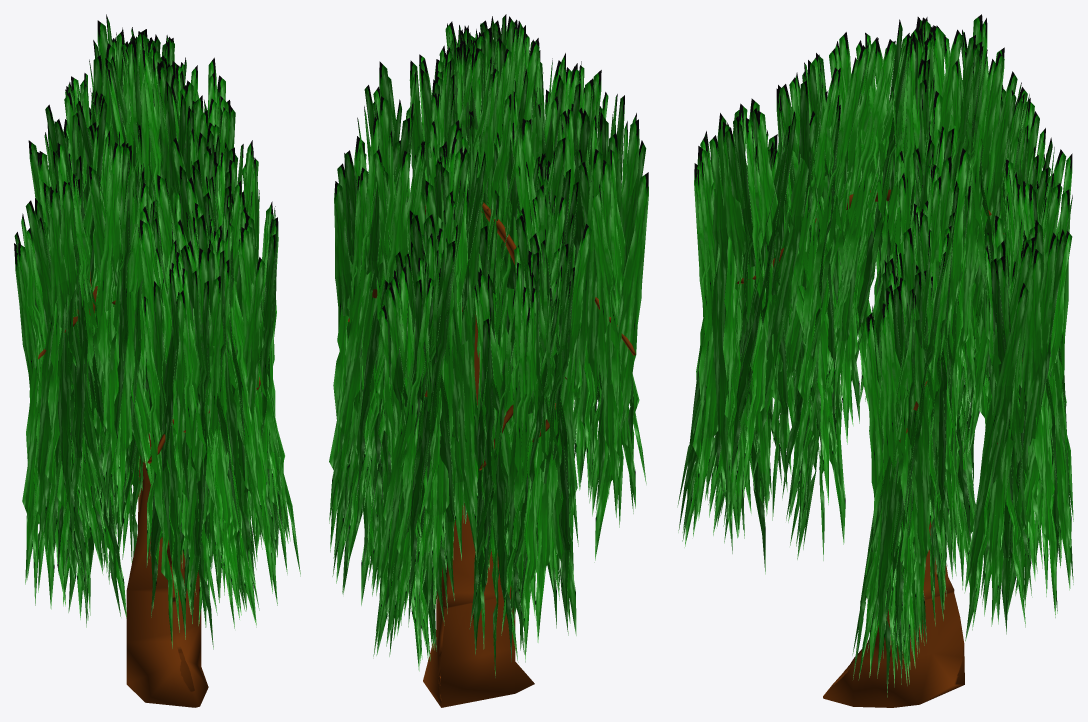
The model's file is willow 1.fbx.
3 renders of one model, left to right at view 1: azimuth 30°, elevation 25°; view 2: azimuth 150°, elevation 25°; view 3: azimuth 270°, elevation 25°, orthographic. The views are drawn at different scales.
Parts seen in each view (by area): view 1: c090c787-1d18-485c-aed2-695b9deaaf12, c090c787-1d18-485c-aed2-695b9deaaf12|leaf1|Dupli|13, c090c787-1d18-485c-aed2-695b9deaaf12|leaf1|Dupli|369, c090c787-1d18-485c-aed2-695b9deaaf12|leaf1|Dupli|25, c090c787-1d18-485c-aed2-695b9deaaf12|leaf1|Dupli|435, c090c787-1d18-485c-aed2-695b9deaaf12|leaf1|Dupli|384, c090c787-1d18-485c-aed2-695b9deaaf12|leaf1|Dupli|445, c090c787-1d18-485c-aed2-695b9deaaf12|leaf1|Dupli|438, c090c787-1d18-485c-aed2-695b9deaaf12|leaf1|Dupli|450, c090c787-1d18-485c-aed2-695b9deaaf12|leaf1|Dupli|427, c090c787-1d18-485c-aed2-695b9deaaf12|leaf1|Dupli|387, c090c787-1d18-485c-aed2-695b9deaaf12|leaf1|Dupli|178 (+86 smaller); view 2: c090c787-1d18-485c-aed2-695b9deaaf12, c090c787-1d18-485c-aed2-695b9deaaf12|leaf1|Dupli|25, c090c787-1d18-485c-aed2-695b9deaaf12|leaf1|Dupli|135, c090c787-1d18-485c-aed2-695b9deaaf12|leaf1|Dupli|380, c090c787-1d18-485c-aed2-695b9deaaf12|leaf1|Dupli|545, c090c787-1d18-485c-aed2-695b9deaaf12|leaf1|Dupli|34, c090c787-1d18-485c-aed2-695b9deaaf12|leaf1|Dupli|455, c090c787-1d18-485c-aed2-695b9deaaf12|leaf1|Dupli|119, c090c787-1d18-485c-aed2-695b9deaaf12|leaf1|Dupli|349, c090c787-1d18-485c-aed2-695b9deaaf12|leaf1|Dupli|333, c090c787-1d18-485c-aed2-695b9deaaf12|leaf1|Dupli|321, c090c787-1d18-485c-aed2-695b9deaaf12|leaf1|Dupli|26 (+97 smaller); view 3: c090c787-1d18-485c-aed2-695b9deaaf12, c090c787-1d18-485c-aed2-695b9deaaf12|leaf1|Dupli|497, c090c787-1d18-485c-aed2-695b9deaaf12|leaf1|Dupli|267, c090c787-1d18-485c-aed2-695b9deaaf12|leaf1|Dupli|176, c090c787-1d18-485c-aed2-695b9deaaf12|leaf1|Dupli|126, c090c787-1d18-485c-aed2-695b9deaaf12|leaf1|Dupli|257, c090c787-1d18-485c-aed2-695b9deaaf12|leaf1|Dupli|108, c090c787-1d18-485c-aed2-695b9deaaf12|leaf1|Dupli|175, c090c787-1d18-485c-aed2-695b9deaaf12|leaf1|Dupli|559, c090c787-1d18-485c-aed2-695b9deaaf12|leaf1|Dupli|255, c090c787-1d18-485c-aed2-695b9deaaf12|leaf1|Dupli|258, c090c787-1d18-485c-aed2-695b9deaaf12|leaf1|Dupli|244 (+106 smaller).
Part boxes in pixels (box(x1,y1,x2,y2)): c090c787-1d18-485c-aed2-695b9deaaf12: box(38, 272, 260, 707); c090c787-1d18-485c-aed2-695b9deaaf12|leaf1|Dupli|13: box(153, 281, 185, 639); c090c787-1d18-485c-aed2-695b9deaaf12|leaf1|Dupli|369: box(93, 142, 121, 501); c090c787-1d18-485c-aed2-695b9deaaf12|leaf1|Dupli|25: box(144, 296, 172, 648); c090c787-1d18-485c-aed2-695b9deaaf12|leaf1|Dupli|435: box(97, 122, 119, 511); c090c787-1d18-485c-aed2-695b9deaaf12|leaf1|Dupli|384: box(71, 156, 87, 533); c090c787-1d18-485c-aed2-695b9deaaf12|leaf1|Dupli|445: box(36, 234, 67, 547); c090c787-1d18-485c-aed2-695b9deaaf12|leaf1|Dupli|438: box(106, 143, 130, 515); c090c787-1d18-485c-aed2-695b9deaaf12|leaf1|Dupli|450: box(116, 142, 134, 529); c090c787-1d18-485c-aed2-695b9deaaf12|leaf1|Dupli|427: box(22, 244, 50, 584); c090c787-1d18-485c-aed2-695b9deaaf12|leaf1|Dupli|387: box(55, 184, 74, 549); c090c787-1d18-485c-aed2-695b9deaaf12|leaf1|Dupli|178: box(185, 356, 211, 605); c090c787-1d18-485c-aed2-695b9deaaf12: box(348, 202, 635, 707); c090c787-1d18-485c-aed2-695b9deaaf12|leaf1|Dupli|25: box(594, 172, 648, 562); c090c787-1d18-485c-aed2-695b9deaaf12|leaf1|Dupli|135: box(578, 149, 602, 496); c090c787-1d18-485c-aed2-695b9deaaf12|leaf1|Dupli|380: box(473, 318, 494, 654); c090c787-1d18-485c-aed2-695b9deaaf12|leaf1|Dupli|545: box(337, 136, 392, 507); c090c787-1d18-485c-aed2-695b9deaaf12|leaf1|Dupli|34: box(598, 160, 618, 517); c090c787-1d18-485c-aed2-695b9deaaf12|leaf1|Dupli|455: box(535, 273, 559, 642); c090c787-1d18-485c-aed2-695b9deaaf12|leaf1|Dupli|119: box(591, 181, 635, 508); c090c787-1d18-485c-aed2-695b9deaaf12|leaf1|Dupli|349: box(411, 215, 454, 600); c090c787-1d18-485c-aed2-695b9deaaf12|leaf1|Dupli|333: box(408, 238, 448, 599); c090c787-1d18-485c-aed2-695b9deaaf12|leaf1|Dupli|321: box(432, 216, 453, 595); c090c787-1d18-485c-aed2-695b9deaaf12|leaf1|Dupli|26: box(611, 205, 623, 527); c090c787-1d18-485c-aed2-695b9deaaf12: box(735, 189, 1031, 707); c090c787-1d18-485c-aed2-695b9deaaf12|leaf1|Dupli|497: box(903, 228, 929, 641); c090c787-1d18-485c-aed2-695b9deaaf12|leaf1|Dupli|267: box(965, 283, 1028, 641); c090c787-1d18-485c-aed2-695b9deaaf12|leaf1|Dupli|176: box(711, 113, 730, 519); c090c787-1d18-485c-aed2-695b9deaaf12|leaf1|Dupli|126: box(753, 111, 817, 477); c090c787-1d18-485c-aed2-695b9deaaf12|leaf1|Dupli|257: box(1007, 232, 1059, 614); c090c787-1d18-485c-aed2-695b9deaaf12|leaf1|Dupli|108: box(779, 67, 837, 424); c090c787-1d18-485c-aed2-695b9deaaf12|leaf1|Dupli|175: box(723, 103, 747, 523); c090c787-1d18-485c-aed2-695b9deaaf12|leaf1|Dupli|559: box(877, 453, 902, 678); c090c787-1d18-485c-aed2-695b9deaaf12|leaf1|Dupli|255: box(1019, 249, 1042, 598); c090c787-1d18-485c-aed2-695b9deaaf12|leaf1|Dupli|258: box(1035, 406, 1056, 617); c090c787-1d18-485c-aed2-695b9deaaf12|leaf1|Dupli|244: box(987, 261, 1018, 626).
Bounding box in the file's own units: 32.84 × 78.84 × 41.86.
